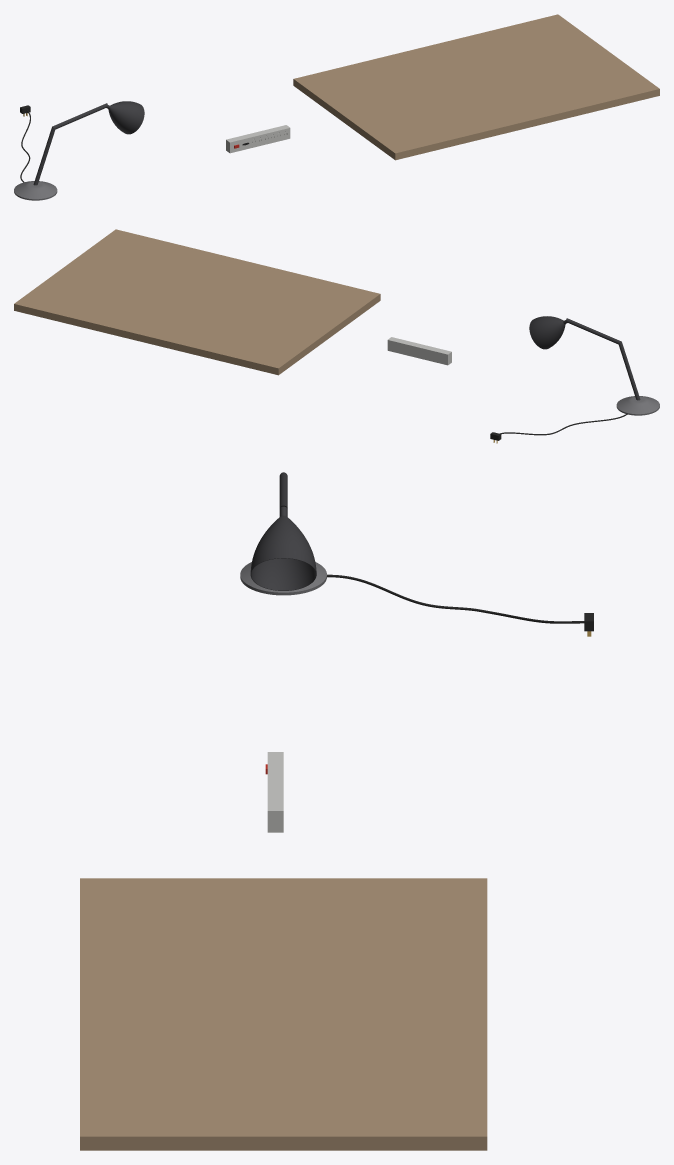
The model's file is lamp.glb.
3 renders of one model, top to bottom at view 1: azimuth 30°, elevation 25°; view 2: azimuth 150°, elevation 25°; view 3: azimuth 270°, elevation 25°, orthographic. The views are drawn at different scales.
Parts seen in each view (by area): view 1: Desk/top, Strip/body, Lamp/shade, Lamp/base; view 2: Desk/top, Strip/body, Lamp/shade, Lamp/base; view 3: Desk/top, Lamp/shade, Strip/body.
Part boxes in pixels (left/top/right/bottom): Desk/top: left=293, top=14, right=659, bottom=160; Strip/body: left=226, top=125, right=290, bottom=153; Lamp/shade: left=106, top=101, right=144, bottom=134; Lamp/base: left=14, top=181, right=57, bottom=200; Desk/top: left=14, top=229, right=380, bottom=375; Strip/body: left=387, top=337, right=451, bottom=365; Lamp/shade: left=529, top=316, right=567, bottom=349; Lamp/base: left=616, top=396, right=659, bottom=415; Desk/top: left=80, top=878, right=487, bottom=1150; Lamp/shade: left=250, top=506, right=316, bottom=590; Strip/body: left=267, top=752, right=283, bottom=832.
Size of the model in its own units: 2.69 by 0.3363 by 1.01.
